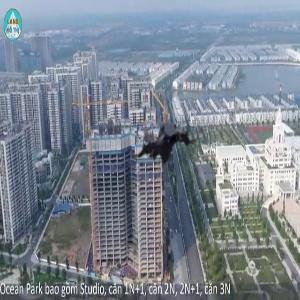drone: (128, 115, 203, 190)
